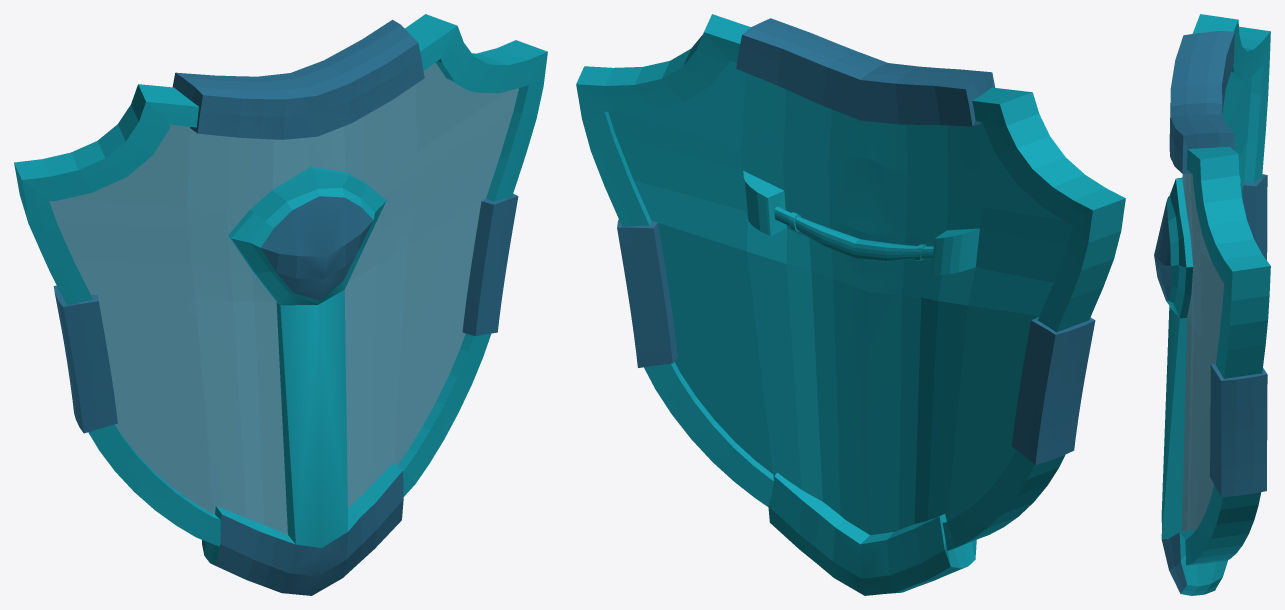
Rendered from perisai utuh.fbx.
3 views of the same model, side by side, from view 1: azimuth 30°, elevation 25°; view 2: azimuth 150°, elevation 25°; view 3: azimuth 270°, elevation 25° (orthographic). The views are drawn at different scales.
Parts seen in each view (by area): view 1: perisai; view 2: perisai; view 3: perisai.
Part boxes in pixels (x1,y1,x2,y2): perisai: (14, 14, 547, 595); perisai: (576, 14, 1125, 595); perisai: (1154, 14, 1270, 595).
Bounding box in the file's own units: 238 × 230 × 47.84.
